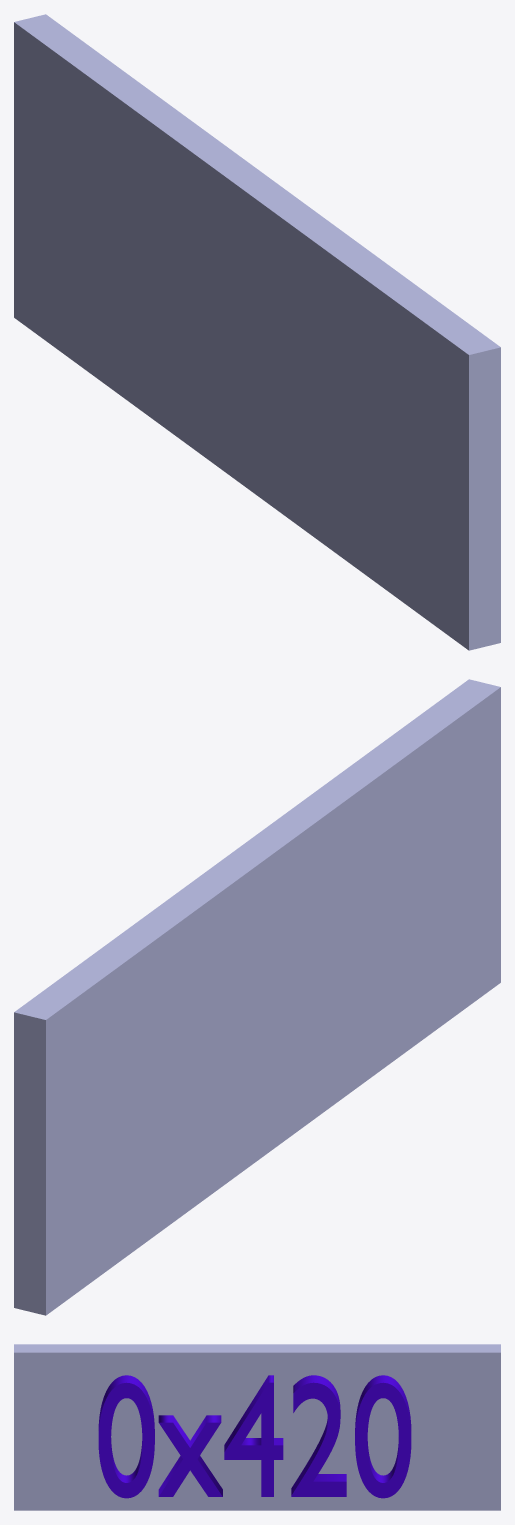
3 views of the same model, one above another, from view 1: azimuth 30°, elevation 25°; view 2: azimuth 150°, elevation 25°; view 3: azimuth 270°, elevation 25° (orthographic). The views are drawn at different scales.
Visible parts, largest first — view 1: Cube; view 2: Cube; view 3: Cube, Text.
Part boxes in pixels (x1=…): Cube: x1=14, y1=14, x2=500, y2=650; Cube: x1=14, y1=679, x2=500, y2=1315; Cube: x1=14, y1=1344, x2=500, y2=1510; Text: x1=98, y1=1375, x2=411, y2=1498.
Size of the model in its own units: 2.65 by 12.33 by 34.39.
